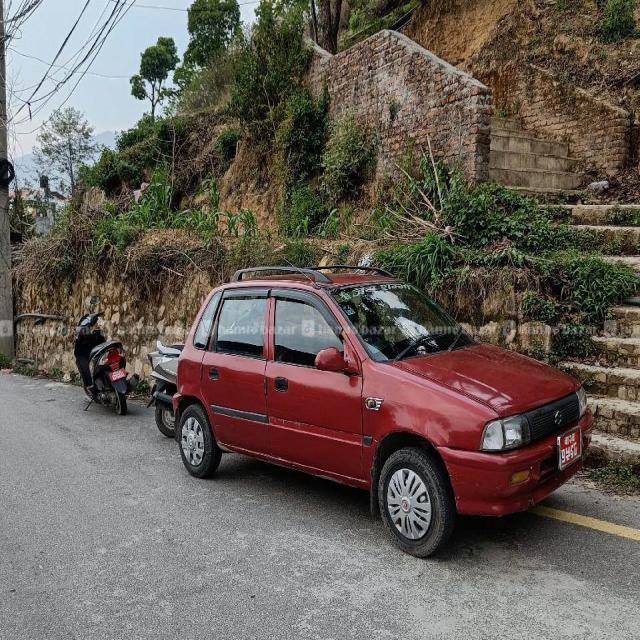License-plate: (555, 428, 580, 468), (109, 365, 124, 388)
